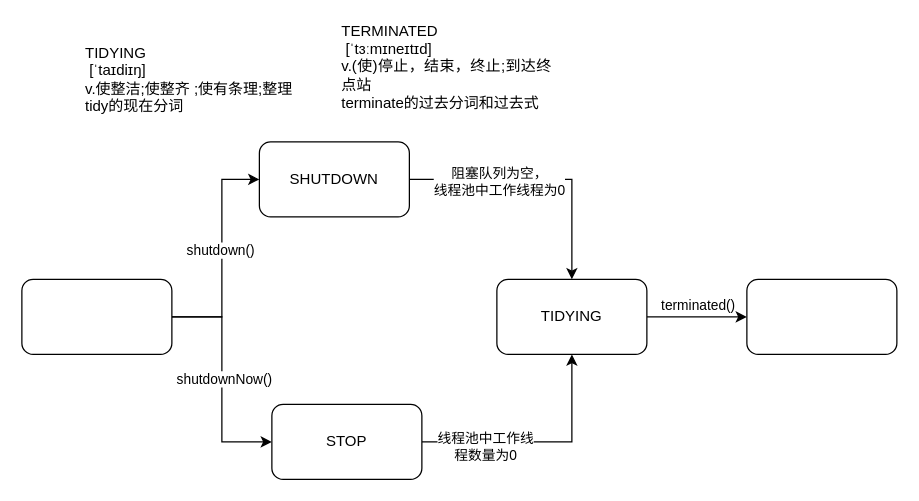
Some shapes in this 919 by 501 pixel diagram are drawn without their labels. The centre of each missing label's shape, as x and y in pixels:
"RUNNING" goes at pixel 96 316.
"TERMINATED" goes at pixel 821 316.
